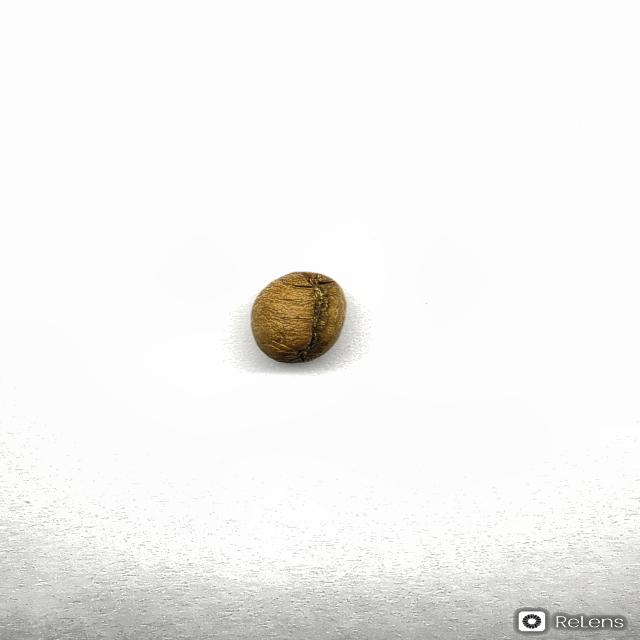Quaker: (249, 270, 347, 364)
